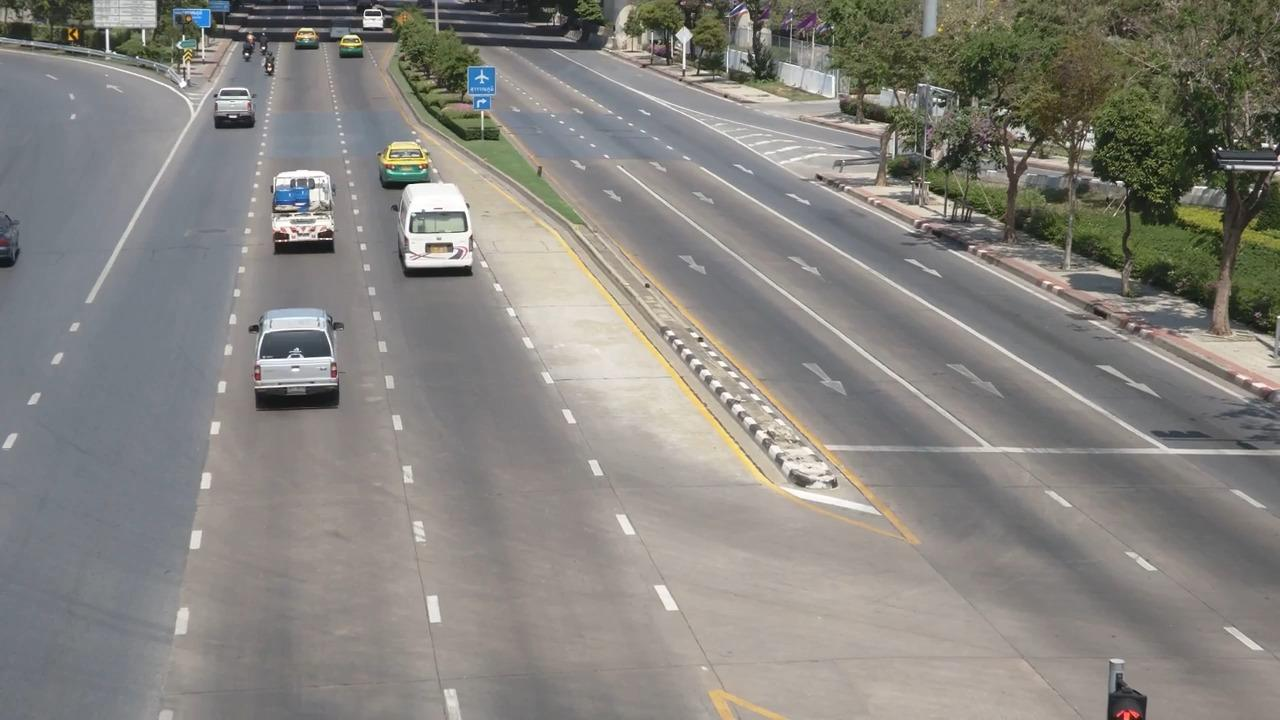CAR: (243, 299, 356, 424), (391, 178, 490, 284), (265, 160, 358, 263), (380, 135, 450, 193), (206, 82, 263, 140), (281, 18, 330, 63), (356, 1, 398, 42), (333, 30, 370, 65)
MOTOR: (226, 35, 255, 77), (250, 49, 283, 85)
